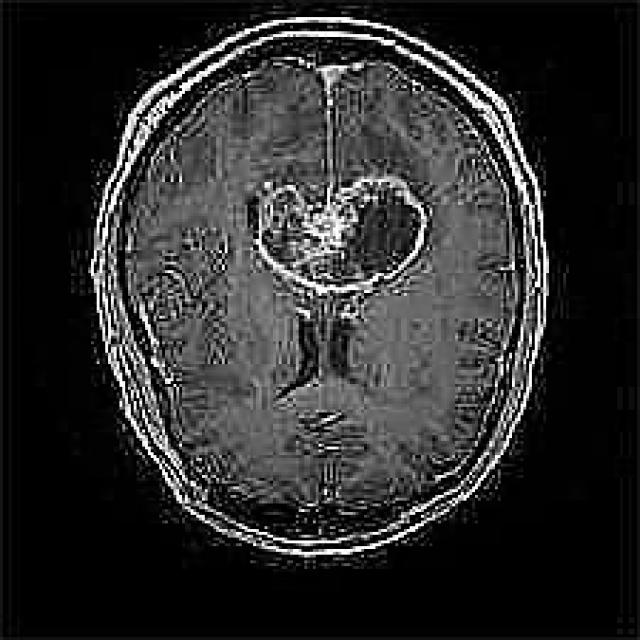Tumor-Cell: (234, 168, 436, 294)
